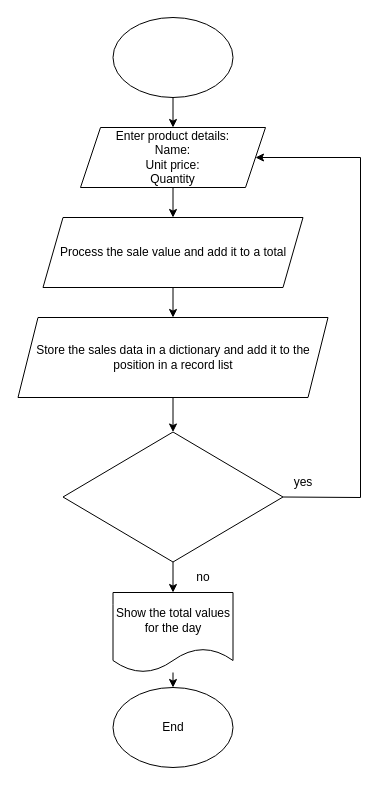
Some shapes in this 386 by 785 pixel diagram are drawn without their labels. Each missing label, with the centre of its shape:
"Do you wish to continue with the records?" belongs at pixel 172 496.
"Start" belongs at pixel 172 57.
